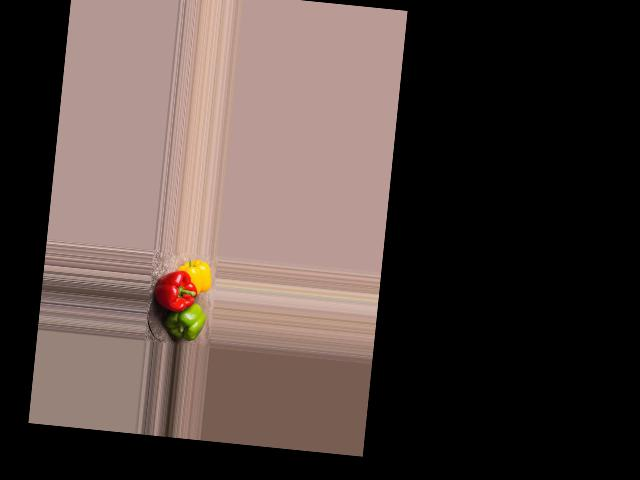bell_pepper: (175, 258, 214, 293)
